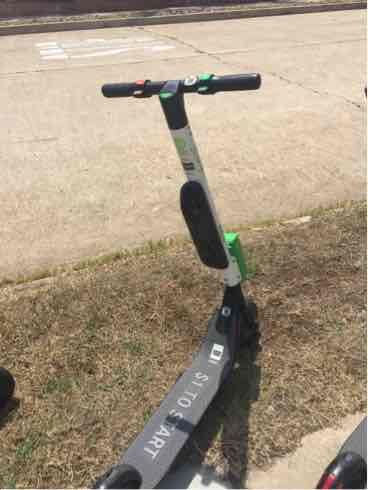scooter: (78, 72, 273, 486)
